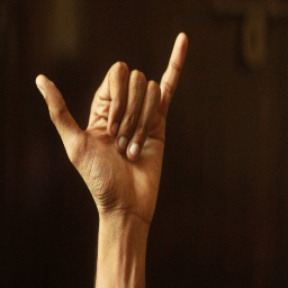J: (32, 32, 191, 205)
